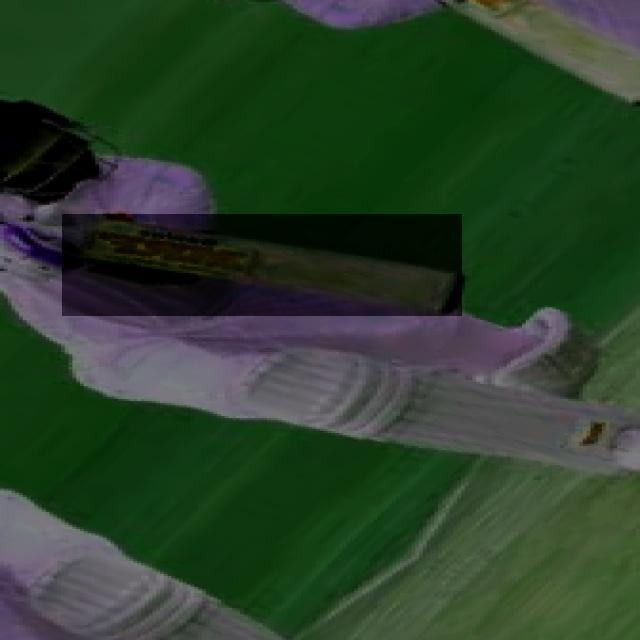bat: (64, 213, 461, 320)
toe: (441, 274, 461, 317)
